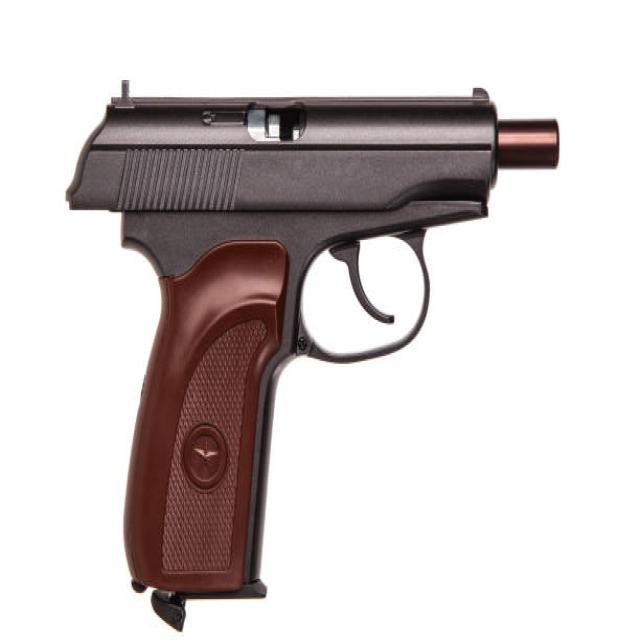pistol: (58, 71, 573, 640)
